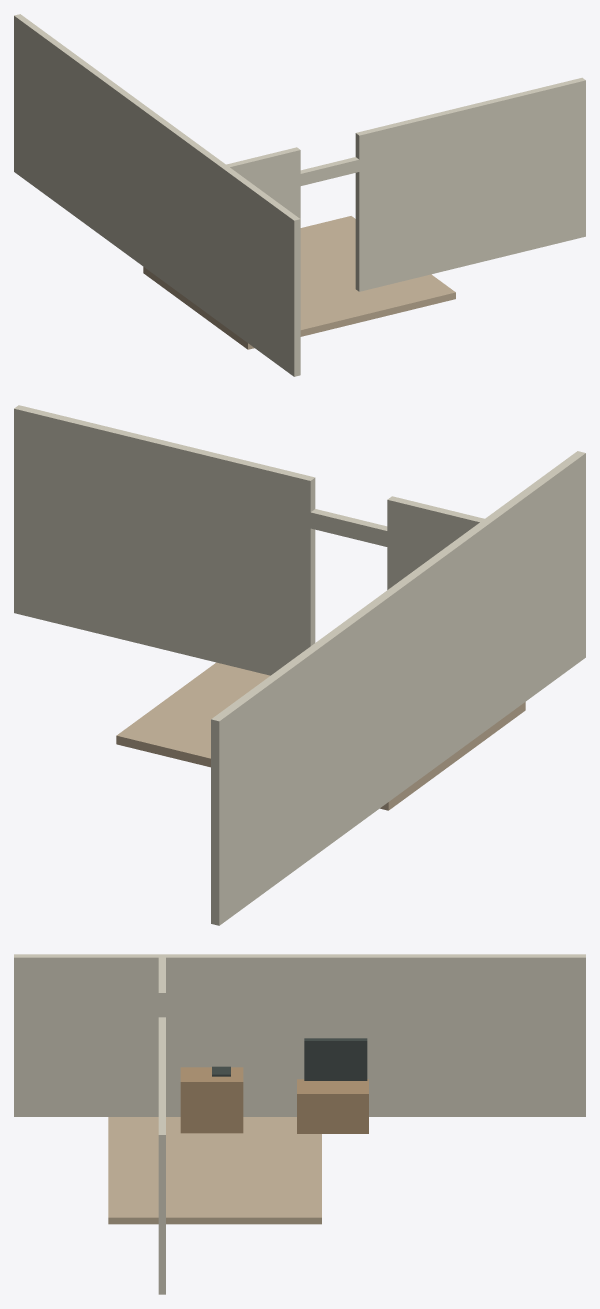
The picture shows the model from 3 angles, top to bottom: view 1: azimuth 30°, elevation 25°; view 2: azimuth 150°, elevation 25°; view 3: azimuth 270°, elevation 25°; orthographic projection. The views are drawn at different scales.
Parts seen in each view (by area): view 1: WS2_3, WW_1, CORRIDORW_11, GROUND_0, WS1_2, ENTRY-lintel_6, ENTRY-j2_5; view 2: WS2_3, WW_1, CORRIDORW_11, GROUND_0, WS1_2, ENTRY-lintel_6; view 3: WW_1, CORRIDORW_11, GROUND_0, H1_9, TV1_7, TV2_8, WS2_3, WS1_2.
Part boxes in pixels (<box>): WS2_3: <box>355,77,585,291</box>; WW_1: <box>14,14,228,324</box>; CORRIDORW_11: <box>223,167,300,376</box>; GROUND_0: <box>143,216,455,349</box>; WS1_2: <box>219,147,300,322</box>; ENTRY-lintel_6: <box>300,157,359,185</box>; ENTRY-j2_5: <box>355,163,363,291</box>; WS2_3: <box>14,405,315,675</box>; WW_1: <box>211,519,493,925</box>; CORRIDORW_11: <box>485,451,585,724</box>; GROUND_0: <box>116,662,525,810</box>; WS1_2: <box>387,496,493,696</box>; ENTRY-lintel_6: <box>310,509,387,546</box>; WW_1: <box>158,954,585,1116</box>; CORRIDORW_11: <box>14,954,158,1116</box>; GROUND_0: <box>108,1117,321,1224</box>; H1_9: <box>180,1067,243,1133</box>; TV1_7: <box>297,1079,368,1133</box>; TV2_8: <box>304,1038,367,1080</box>; WS2_3: <box>158,1022,165,1294</box>; WS1_2: <box>158,955,165,1017</box>.
Size of the model in its own units: 6.8 by 2.92 by 9.1.
